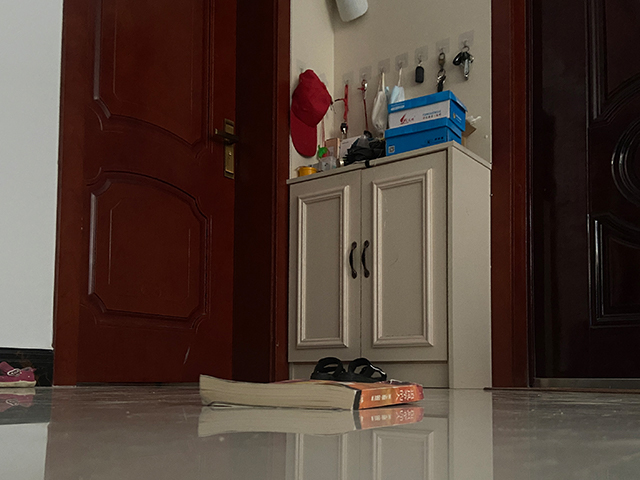book: (196, 372, 424, 412)
cabinet: (282, 138, 494, 391)
slippers: (309, 356, 388, 383)
